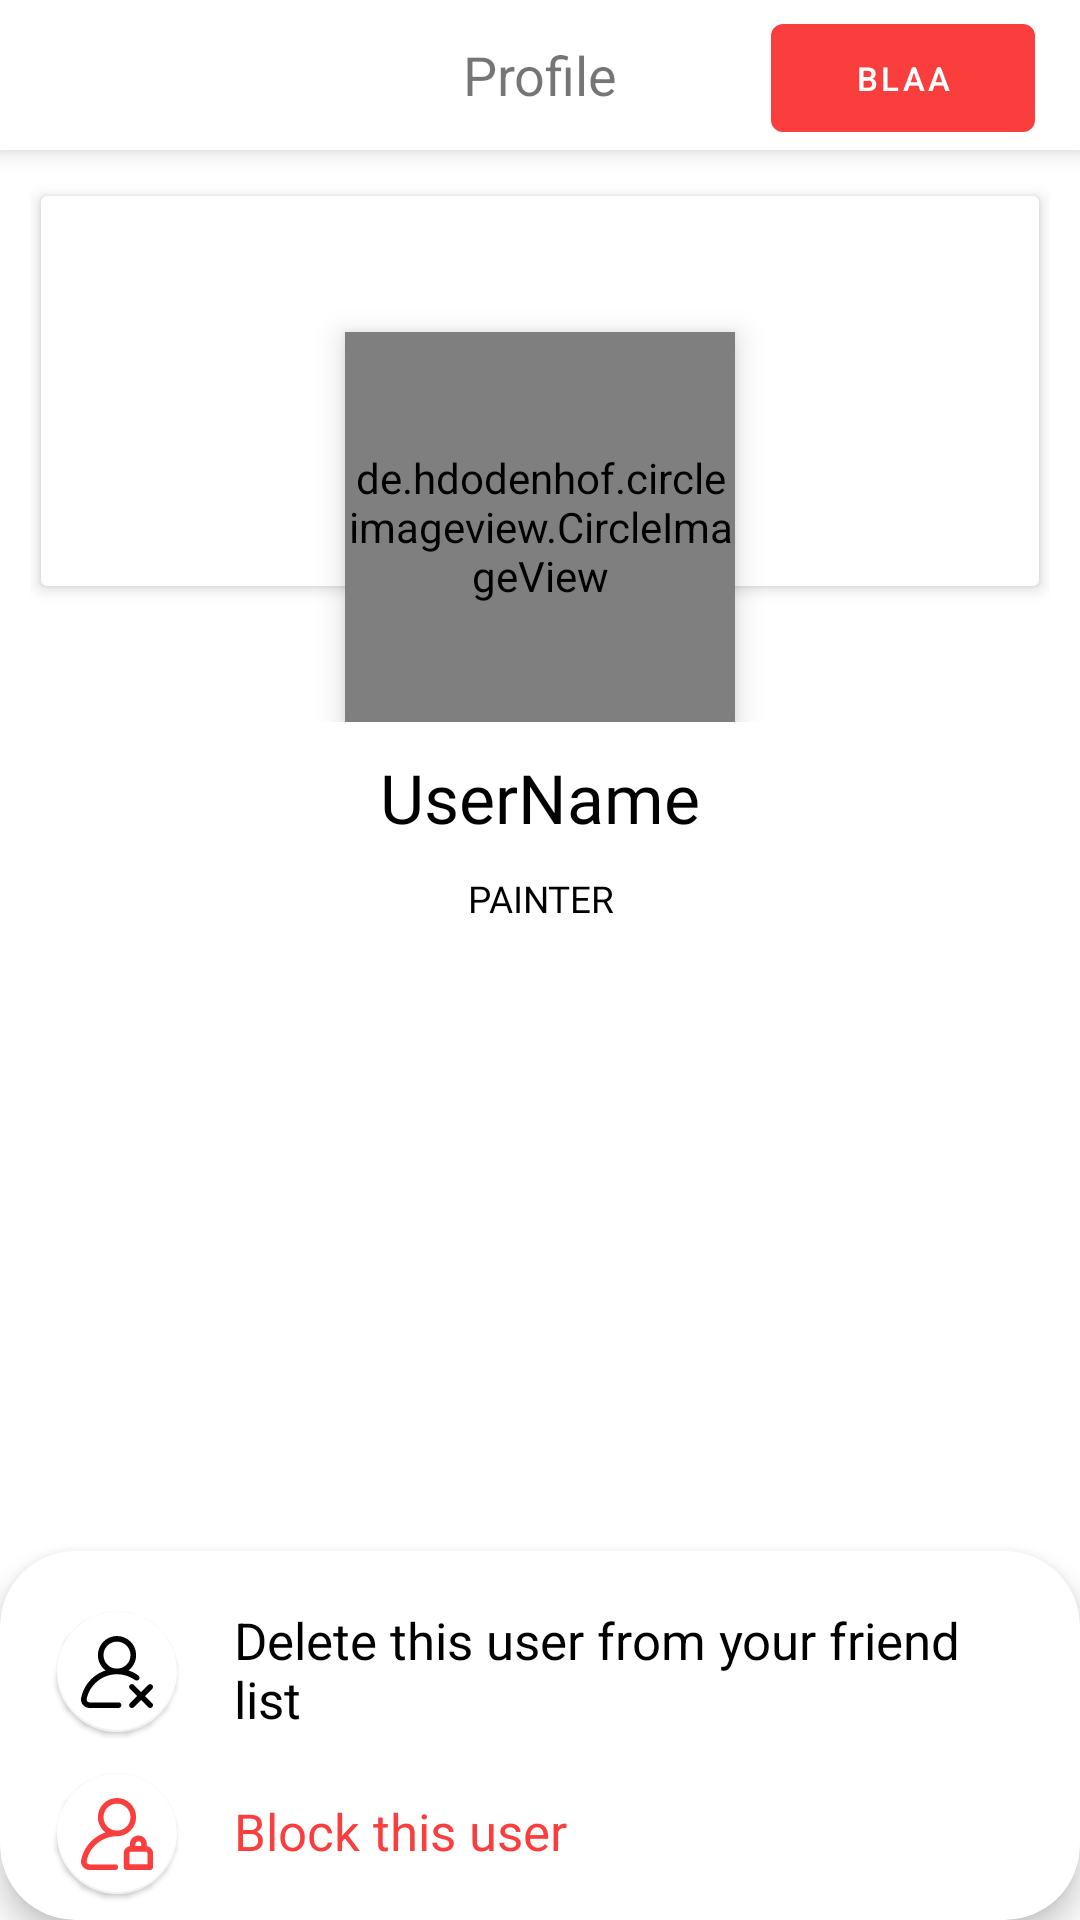

Named icons in this screenshot (1080px×1920px) and their bounding boxes, (x1=x1, y1=y1, x2=x2, y2=y2):
remove user: (x1=57, y1=1636, x2=169, y2=1735)
